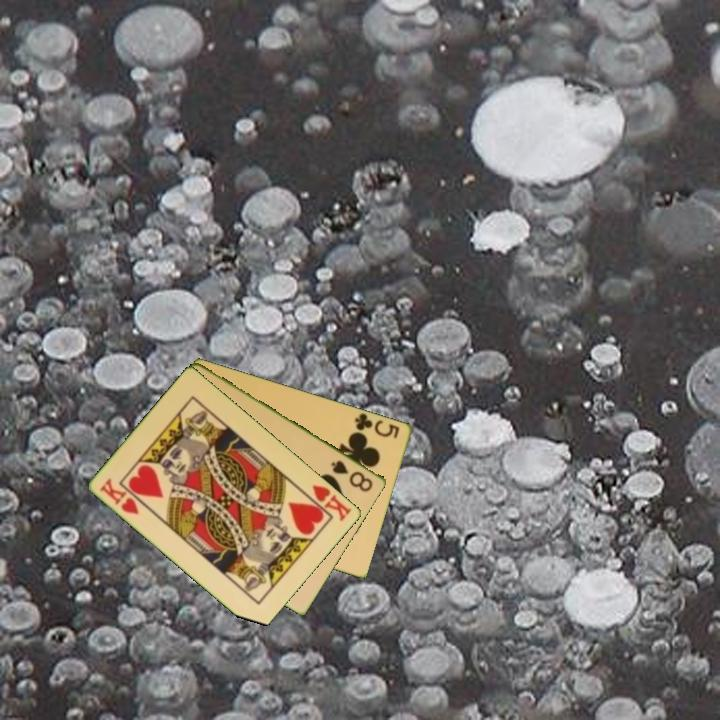5c: (351, 410, 403, 441)
8s: (328, 456, 376, 495)
Kh: (301, 481, 355, 524), (97, 475, 142, 518)
